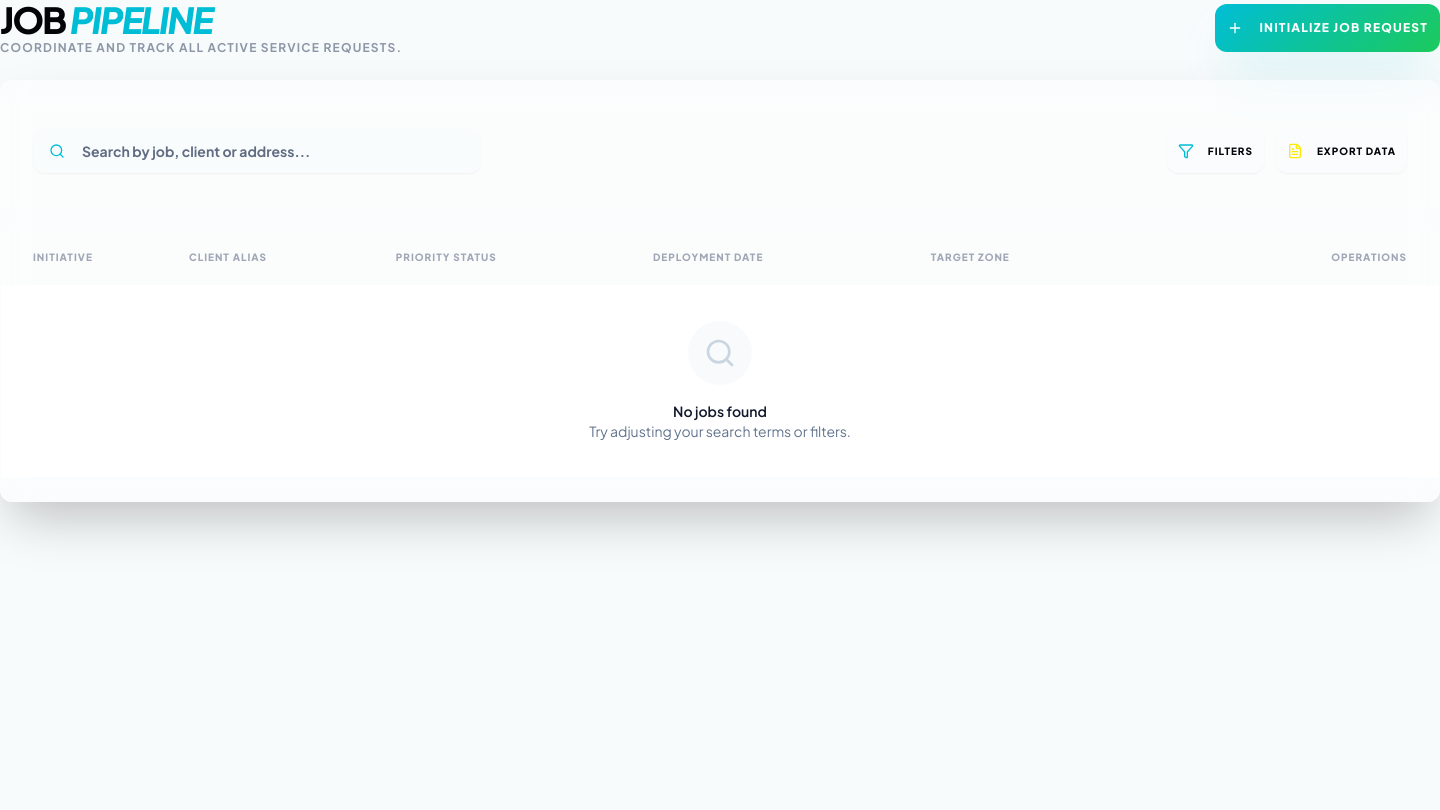
Test: JobsPage › opens create sheet
Click the button "Initialize Job Request".
click(1328, 28)  # box x1=1215 y1=4 x2=1439 y2=52
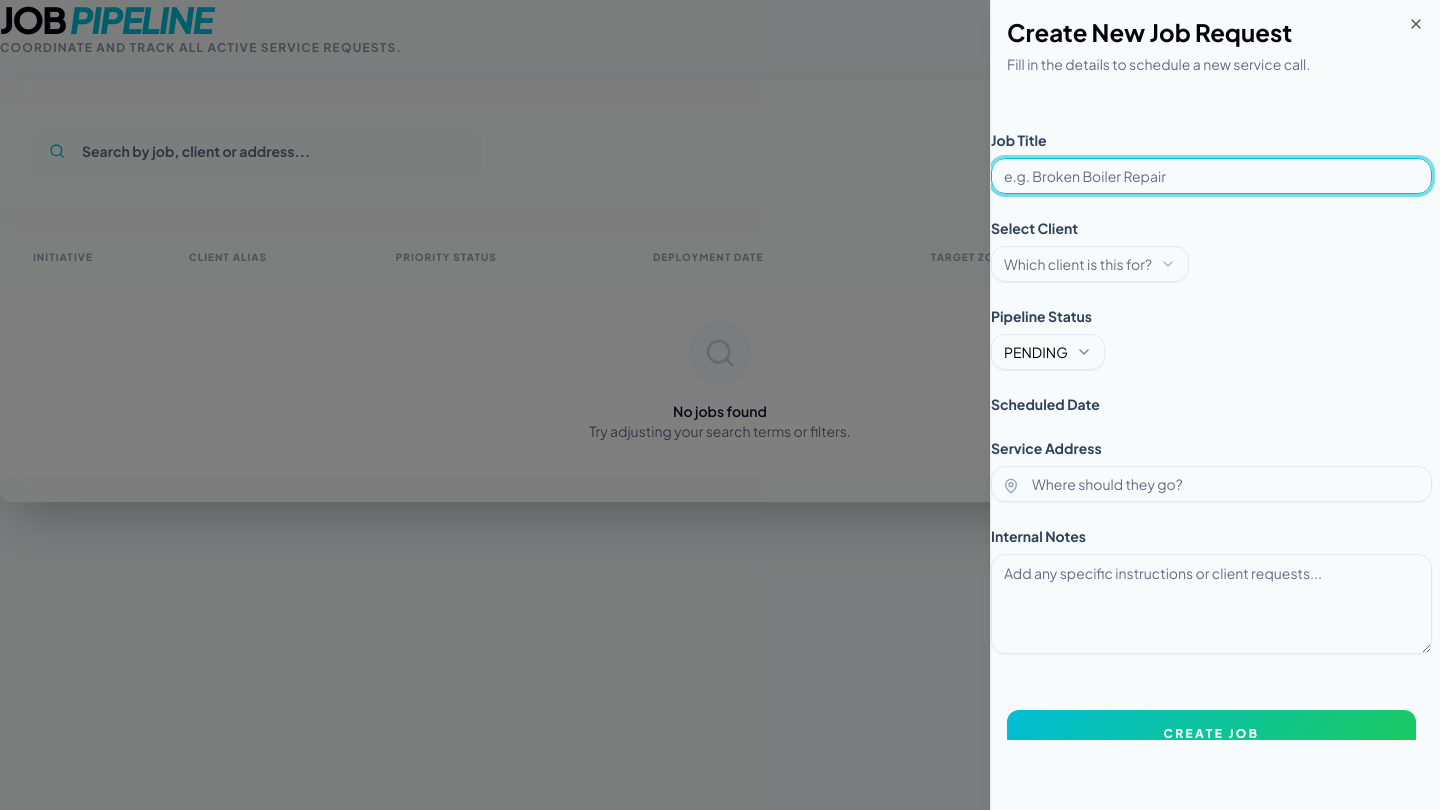
Expected: the heading "Create New Job Request" is shown, x1=1007 y1=17 x2=1292 y2=47
